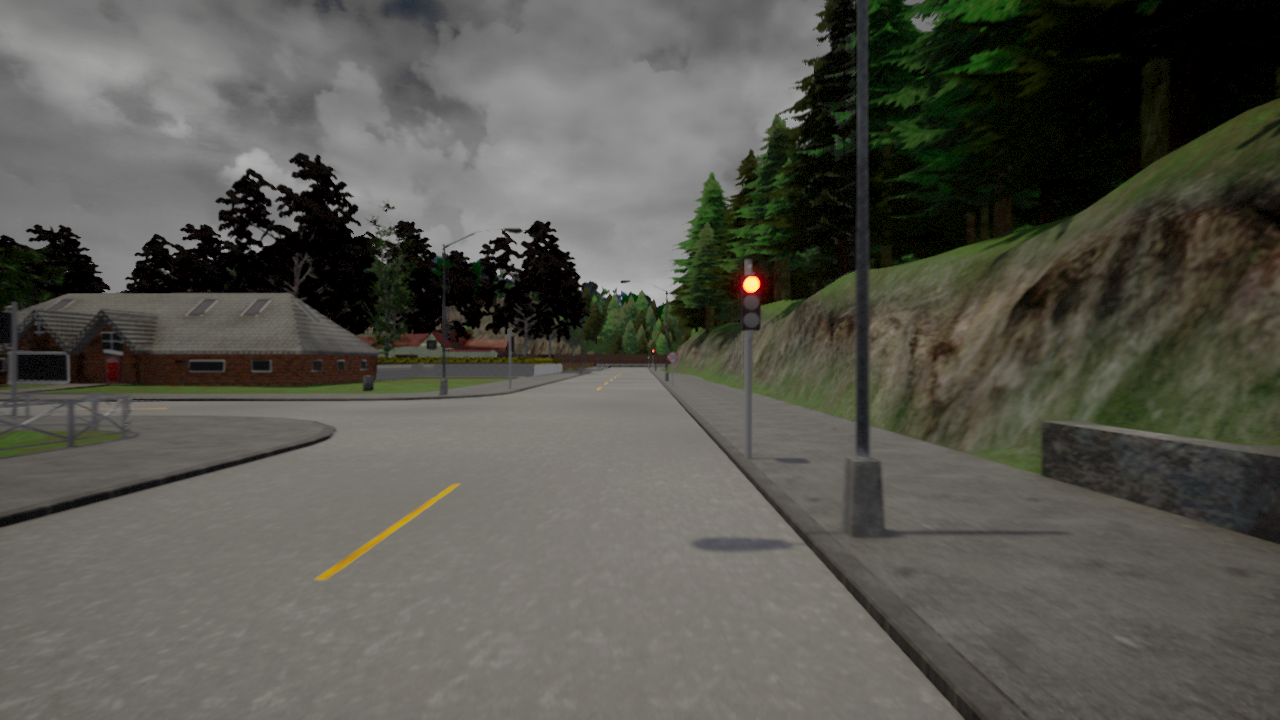red: (739, 275, 763, 331)
